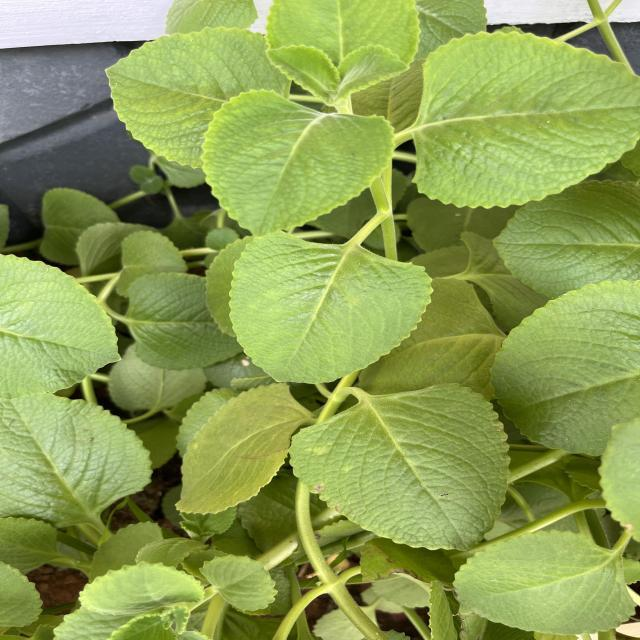Plectranthus barbatus: (412, 28, 640, 210), (287, 381, 512, 553), (227, 230, 436, 386), (200, 87, 397, 236), (488, 277, 640, 458), (104, 25, 281, 169), (0, 391, 154, 528), (451, 530, 640, 636), (175, 380, 313, 516), (491, 178, 640, 298)
